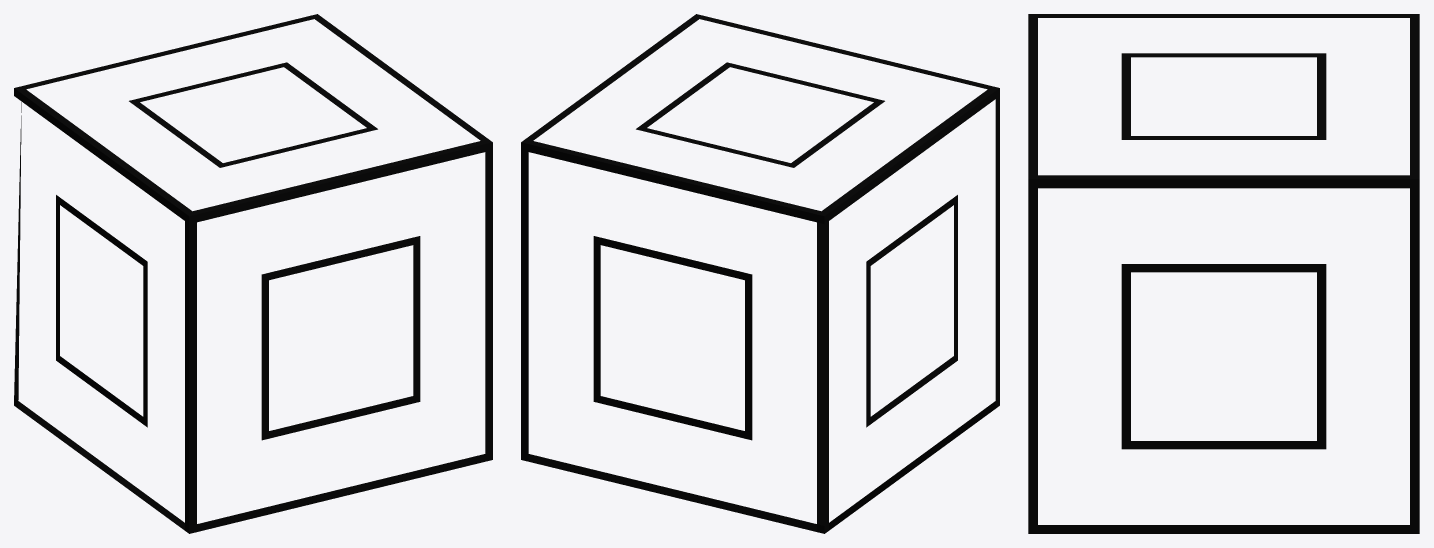
Rendered from meguru.glb.
3 renders of one model, left to right at view 1: azimuth 30°, elevation 25°; view 2: azimuth 150°, elevation 25°; view 3: azimuth 270°, elevation 25°, orthographic. The views are drawn at different scales.
Visible parts, largest first — view 1: Cube; view 2: Cube; view 3: Cube.
Part boxes in pixels (box(x1,y1,x2,y2)): Cube: box(14, 14, 492, 533); Cube: box(521, 14, 999, 533); Cube: box(1028, 14, 1419, 533).
Bounding box in the file's own units: 2 × 2 × 2.
1 material, 1 textured.
